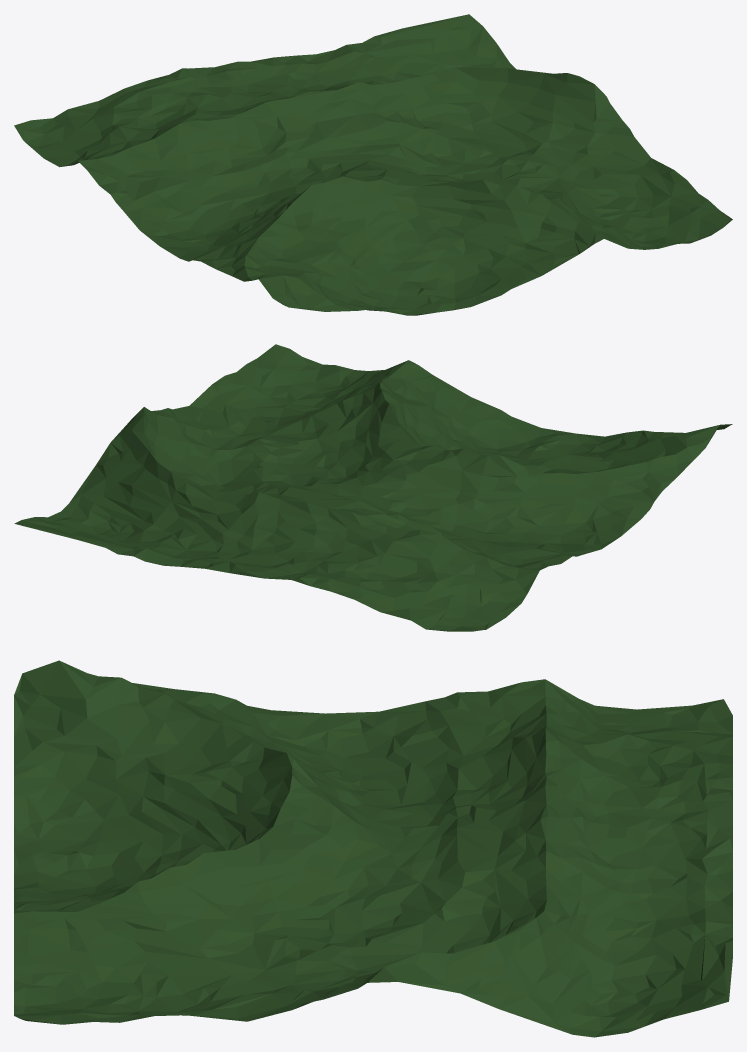
File: SM_landscape_29.fbx
3 renders of one model, top to bottom at view 1: azimuth 30°, elevation 25°; view 2: azimuth 150°, elevation 25°; view 3: azimuth 270°, elevation 25°, orthographic. The views are drawn at different scales.
Visible parts, largest first — view 1: landscape_29; view 2: landscape_29; view 3: landscape_29.
Part boxes in pixels (box(x1,y1,x2,y2)): landscape_29: box(14, 14, 732, 315); landscape_29: box(14, 344, 732, 631); landscape_29: box(14, 660, 732, 1037).
Size of the model in its own units: 2224 by 304 by 2224.
